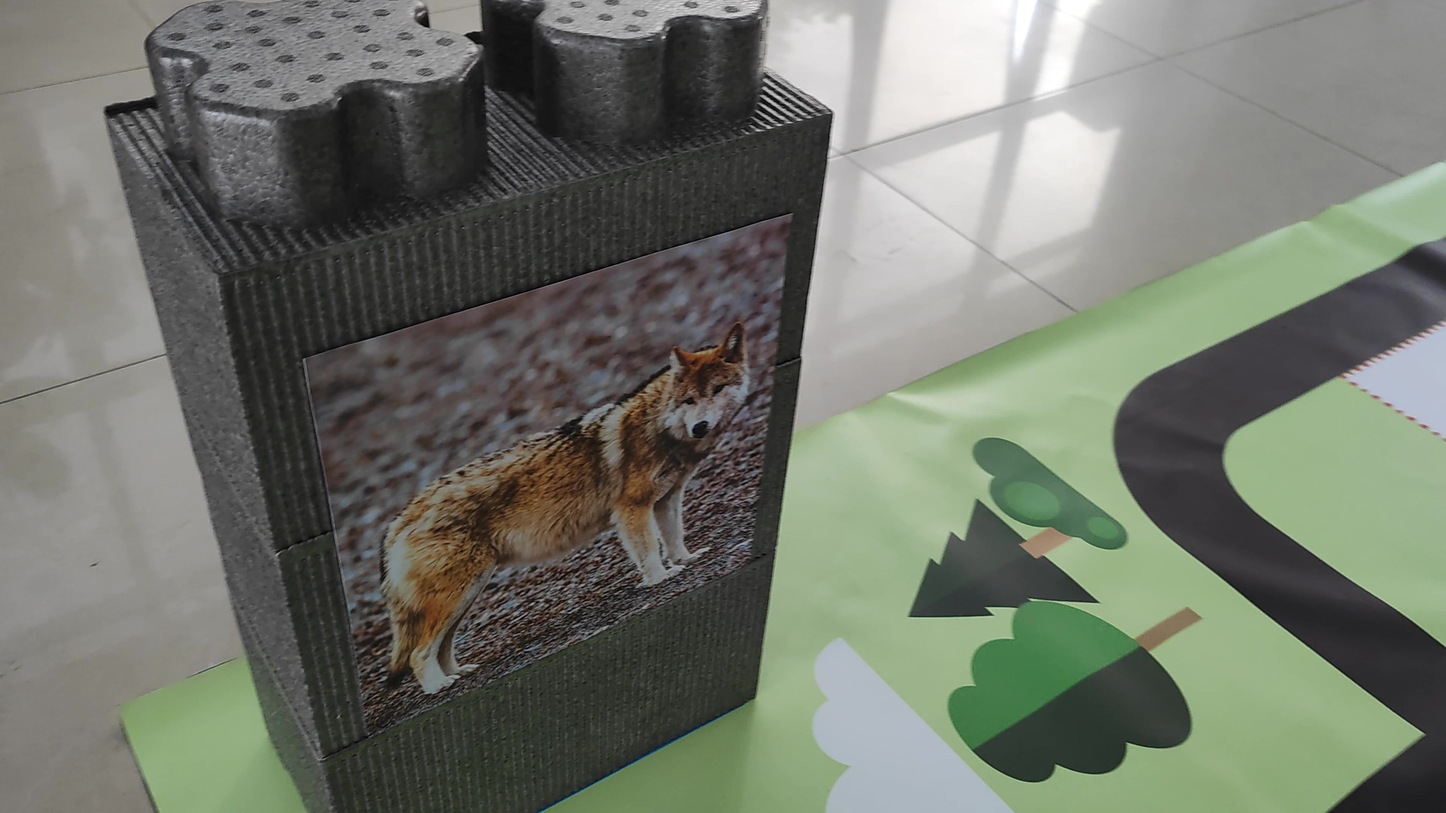wolf: (336, 279, 770, 698)
